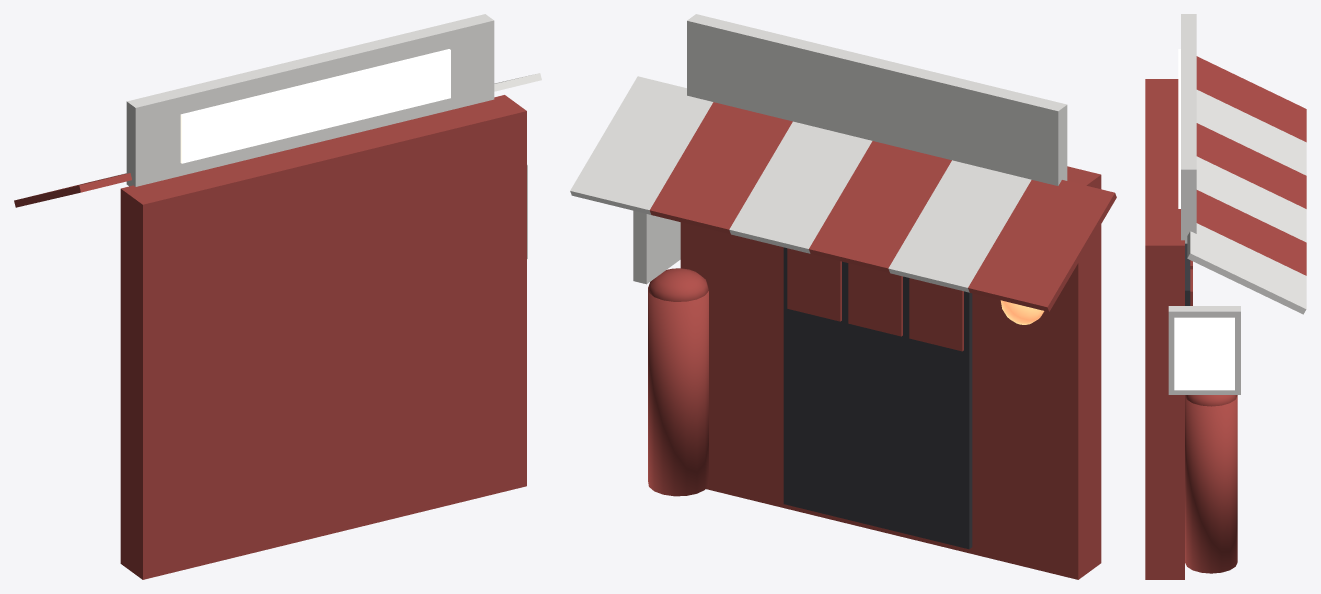
The model's file is prop_mise_yubin.glb.
3 views of the same model, side by side, from view 1: azimuth 30°, elevation 25°; view 2: azimuth 150°, elevation 25°; view 3: azimuth 270°, elevation 25° (orthographic). The views are drawn at different scales.
Parts seen in each view (by area): view 1: mise_yubin; view 2: mise_yubin; view 3: mise_yubin.
Boxes of the visible parts, x1,y1,x2,y2 form: mise_yubin: (14, 14, 541, 579); mise_yubin: (570, 14, 1116, 579); mise_yubin: (1145, 14, 1306, 579).
Size of the model in its own units: 3.6 by 3.39 by 1.22.
